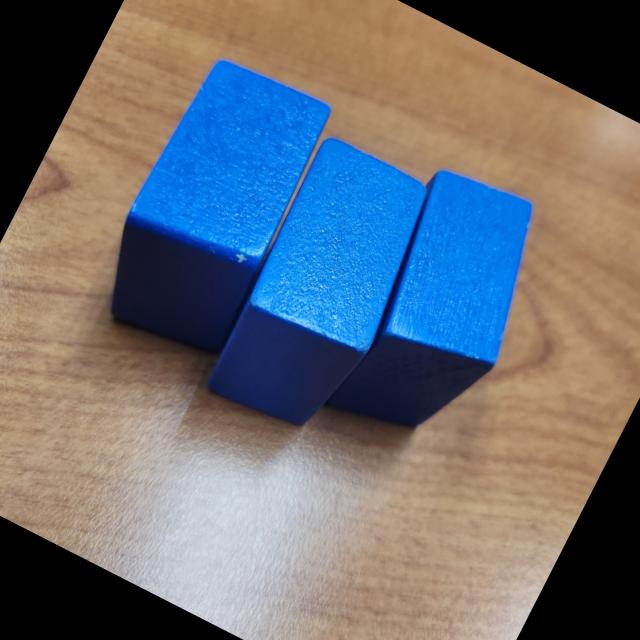blue: (82, 46, 344, 372), (196, 133, 449, 450), (314, 156, 568, 470)
